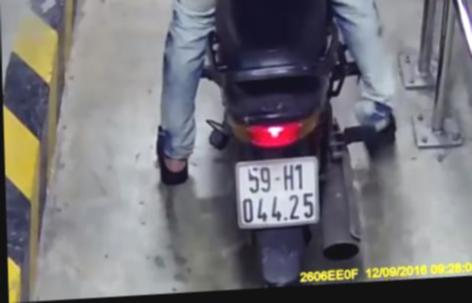License_Plate: (229, 149, 326, 232)
